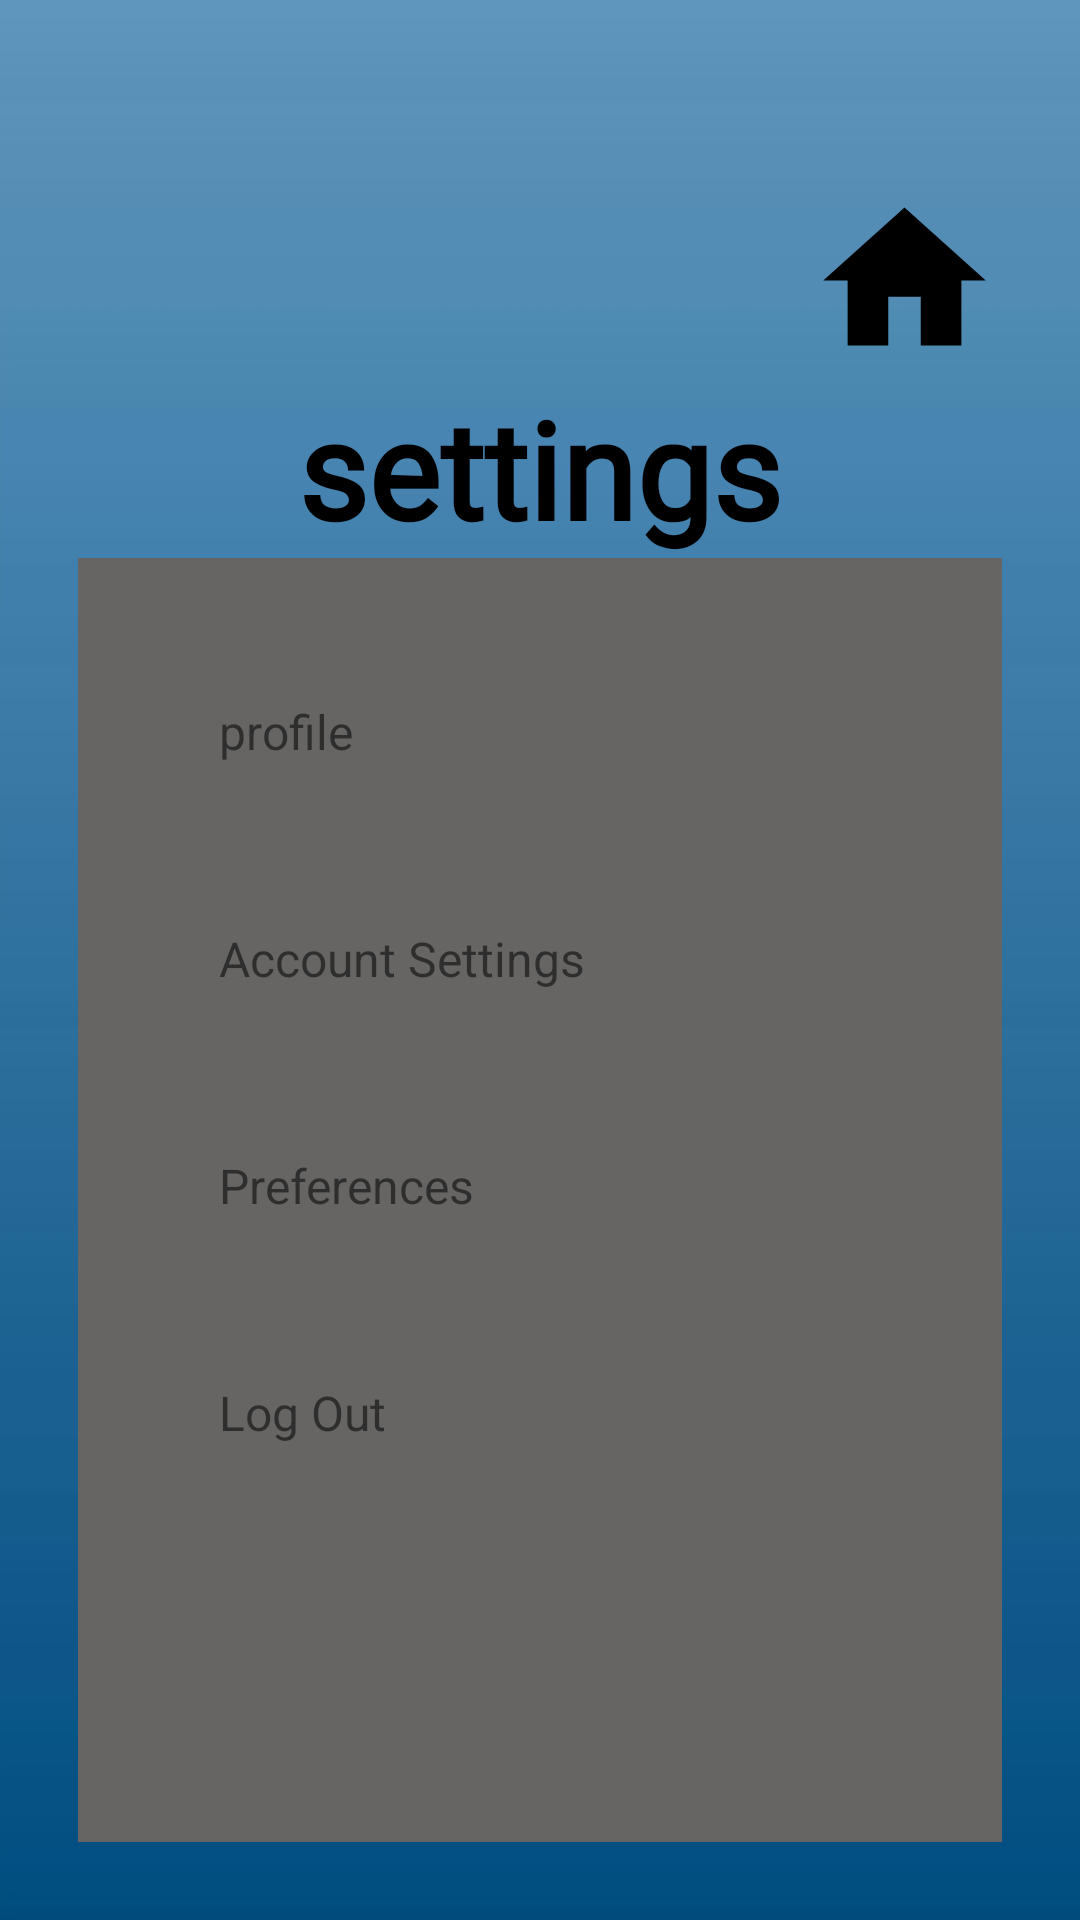

Icons on this 1080*1920 Android screen, each with its box as (x1, y1, x2, y2):
home: (823, 207, 986, 346)
